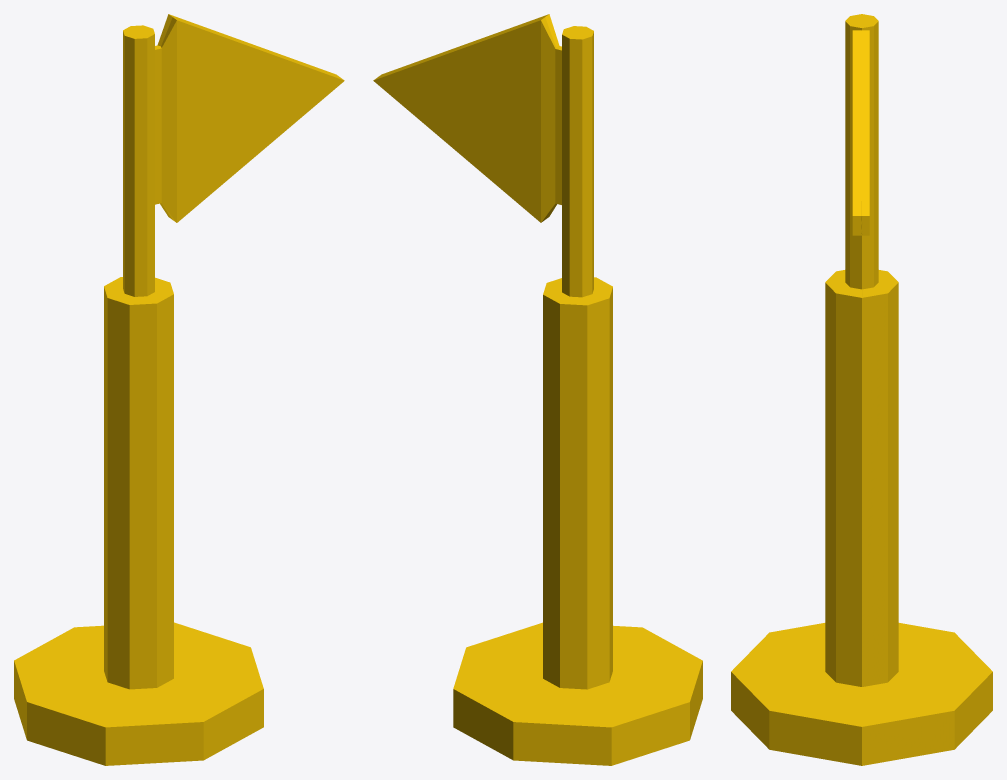
The model's file is flag_default.obj.
3 renders of one model, left to right at view 1: azimuth 30°, elevation 25°; view 2: azimuth 150°, elevation 25°; view 3: azimuth 270°, elevation 25°, orthographic.
Visible parts, largest first — view 1: Flag_[Repositioned]_Cylinder.001; view 2: Flag_[Repositioned]_Cylinder.001; view 3: Flag_[Repositioned]_Cylinder.001.
Part boxes in pixels (x1,y1,x2,y2): Flag_[Repositioned]_Cylinder.001: [14, 14, 344, 765]; Flag_[Repositioned]_Cylinder.001: [373, 14, 702, 765]; Flag_[Repositioned]_Cylinder.001: [731, 14, 992, 765].
Bounding box in the file's own units: 2.13 × 4.46 × 1.52.
Materials: 1 (1 with a texture image).
